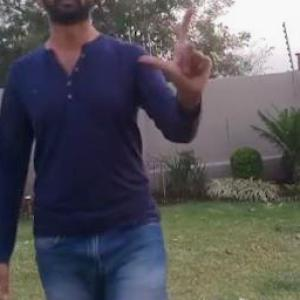land_hand: (135, 0, 225, 93)
